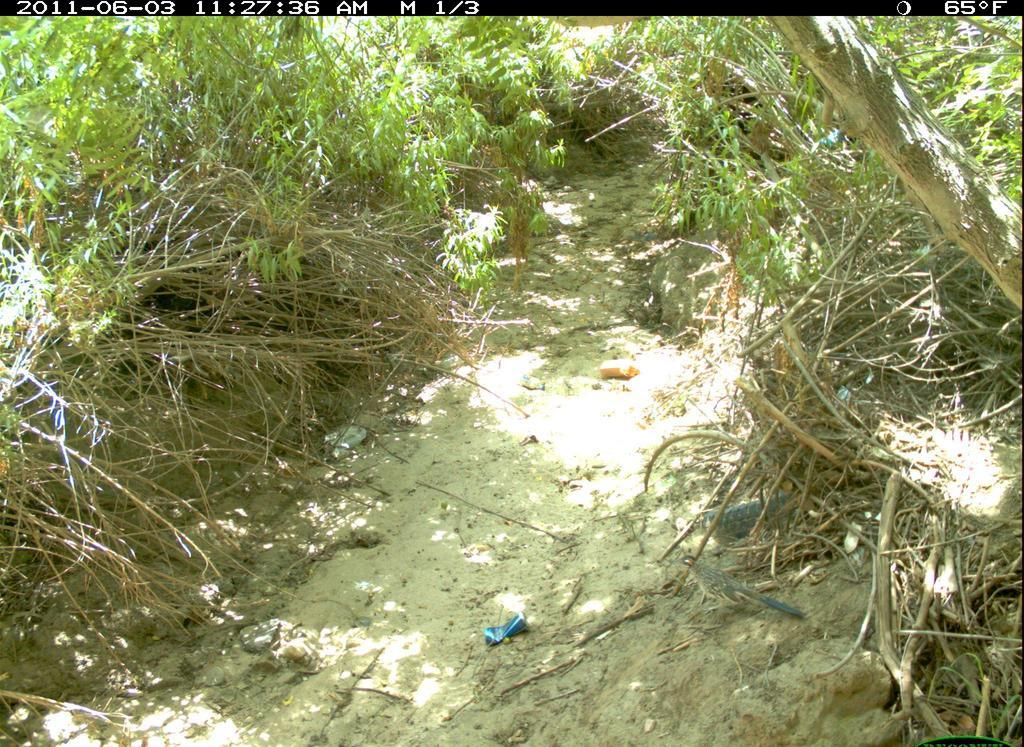bird: (673, 543, 818, 639)
